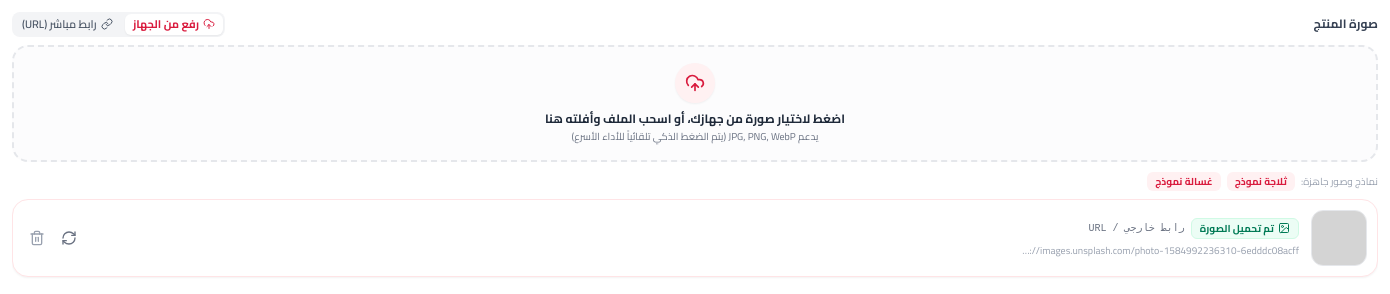
Test: ImageUploader Component › renders live preview card and allows clearing image
The width and height of the screenshot is (1390, 294).
Check: the text "تم تحميل الصورة" is shown, box [1191, 218, 1299, 238]
Click the button titled "حذف الصورة".
click(37, 238)  # box [23, 224, 51, 252]
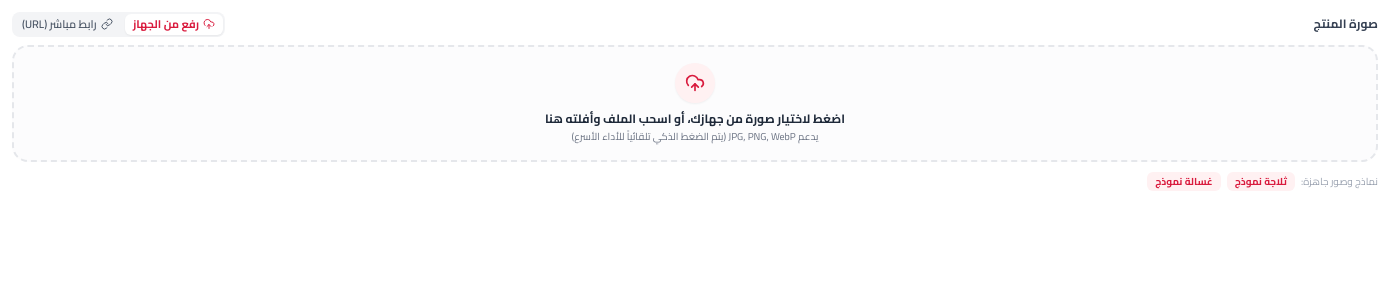
Check: the text "اضغط لاختيار صورة من جهازك، أو اسحب الملف وأفلته هنا" is shown, box [545, 110, 845, 126]
Check: the text "تم تحميل الصورة" is gone
